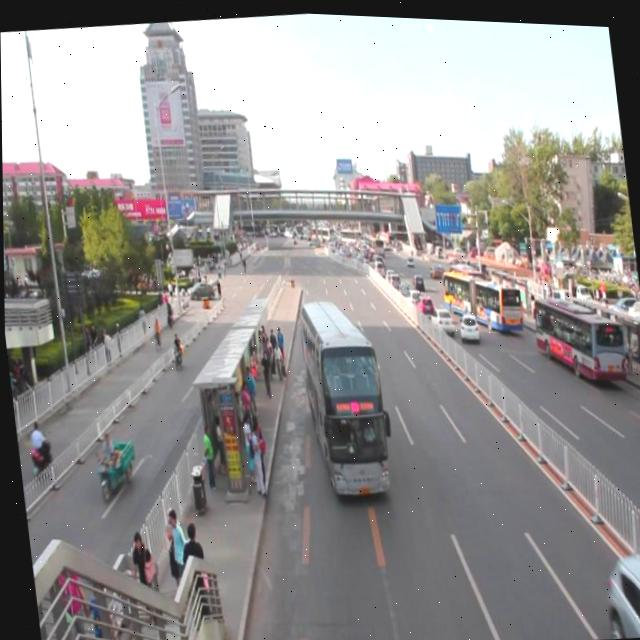car: (596, 545, 640, 634)
van: (292, 293, 397, 508)
